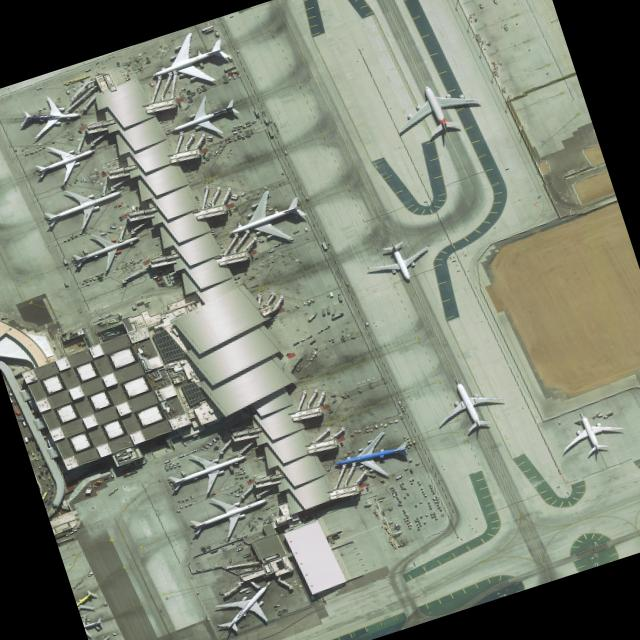large-vehicle: (13, 409, 20, 414), (22, 435, 27, 441)
plane: (381, 68, 491, 148), (215, 178, 316, 258), (139, 21, 240, 100), (158, 434, 260, 505), (33, 171, 134, 241), (180, 479, 279, 548), (422, 369, 512, 441), (198, 576, 296, 637), (327, 424, 413, 489), (160, 86, 248, 149), (62, 218, 150, 279), (358, 230, 440, 293), (548, 401, 630, 462), (24, 131, 105, 191), (15, 91, 86, 141)
small-vehicle: (394, 474, 402, 479), (155, 268, 163, 273), (502, 24, 508, 30), (315, 328, 322, 333), (272, 603, 280, 607), (162, 459, 170, 463), (322, 325, 329, 329), (266, 248, 273, 252), (595, 413, 602, 417), (235, 547, 242, 551), (234, 541, 241, 545), (152, 272, 159, 276), (151, 274, 158, 278), (104, 312, 111, 316), (205, 441, 212, 445), (190, 448, 197, 452), (177, 453, 184, 457), (282, 149, 287, 154), (223, 138, 228, 143), (235, 72, 240, 77), (148, 81, 153, 86), (478, 3, 483, 8), (363, 320, 368, 325), (65, 89, 70, 94), (40, 476, 45, 481), (38, 470, 43, 475), (29, 450, 34, 455), (211, 437, 216, 442), (271, 314, 277, 318), (84, 67, 90, 71), (305, 334, 311, 338), (292, 341, 298, 345), (284, 351, 290, 355), (330, 399, 336, 403), (329, 393, 335, 397), (203, 616, 209, 620), (95, 479, 103, 482), (108, 225, 116, 228), (220, 434, 226, 438), (216, 434, 222, 438), (199, 446, 205, 450), (268, 318, 275, 321), (205, 138, 212, 141), (99, 231, 106, 234), (156, 280, 163, 283), (303, 226, 307, 231), (213, 232, 217, 237), (240, 191, 244, 196), (205, 202, 210, 206), (228, 148, 232, 153), (239, 134, 244, 138), (234, 48, 238, 53), (94, 70, 99, 74), (7, 391, 12, 395), (536, 194, 541, 198), (397, 400, 401, 405), (182, 441, 186, 446), (48, 494, 53, 498), (44, 481, 48, 486), (46, 475, 50, 480), (35, 450, 39, 455), (29, 436, 33, 441), (67, 181, 71, 186), (213, 436, 218, 440), (188, 495, 193, 499), (273, 243, 279, 246), (257, 239, 263, 242), (180, 87, 186, 90), (35, 86, 41, 89), (123, 77, 129, 80), (194, 568, 200, 571), (91, 484, 97, 487), (32, 457, 38, 460), (234, 493, 240, 496), (237, 489, 243, 492), (184, 451, 190, 454), (174, 509, 180, 512), (304, 196, 308, 200), (493, 0, 497, 4), (356, 388, 360, 392), (344, 392, 348, 396), (71, 86, 75, 90), (43, 499, 47, 503), (36, 464, 40, 468), (16, 417, 20, 421), (12, 401, 16, 405), (272, 511, 276, 515), (82, 177, 86, 181), (198, 204, 202, 208), (159, 250, 162, 255), (299, 338, 304, 341), (293, 304, 298, 307), (305, 302, 310, 305), (50, 482, 53, 487), (37, 474, 40, 479), (97, 316, 102, 319), (93, 482, 100, 484), (199, 160, 206, 162), (228, 75, 231, 79), (601, 415, 607, 417), (68, 137, 74, 139), (27, 437, 30, 441), (106, 230, 112, 232), (203, 203, 206, 207), (257, 456, 263, 458), (288, 238, 293, 240), (50, 488, 52, 493), (557, 421, 560, 424), (178, 504, 181, 507), (47, 487, 49, 491), (302, 301, 304, 304)
